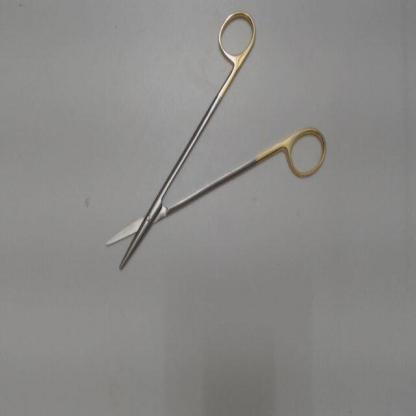7 Metzenbaum Scissors: (101, 5, 332, 276)
